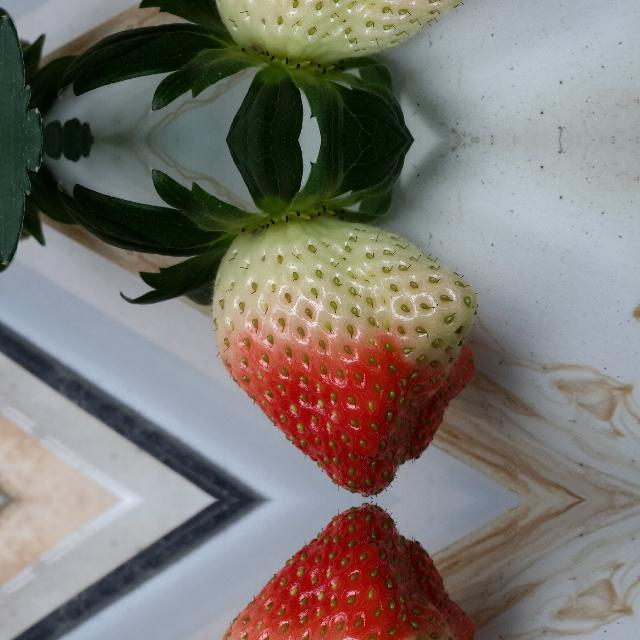Health_50: (209, 212, 479, 496), (209, 504, 479, 640), (209, 0, 479, 67)
